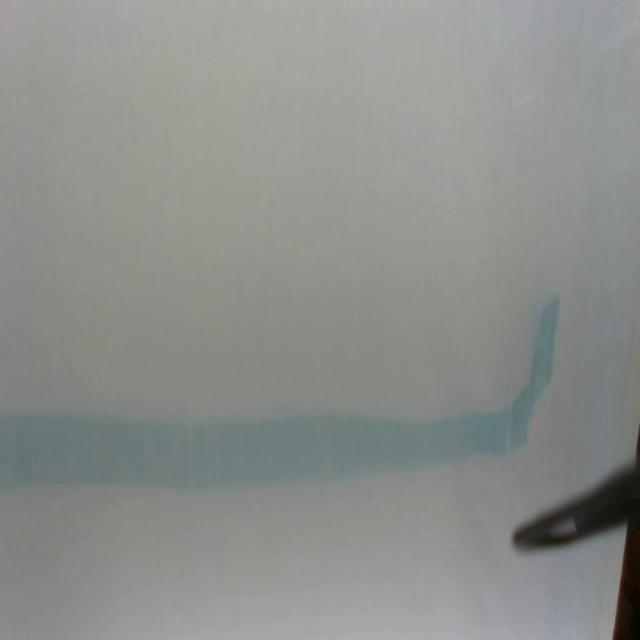color bleeding: (0, 287, 563, 495)
